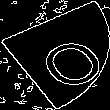O_NW: (12, 22, 98, 88)
